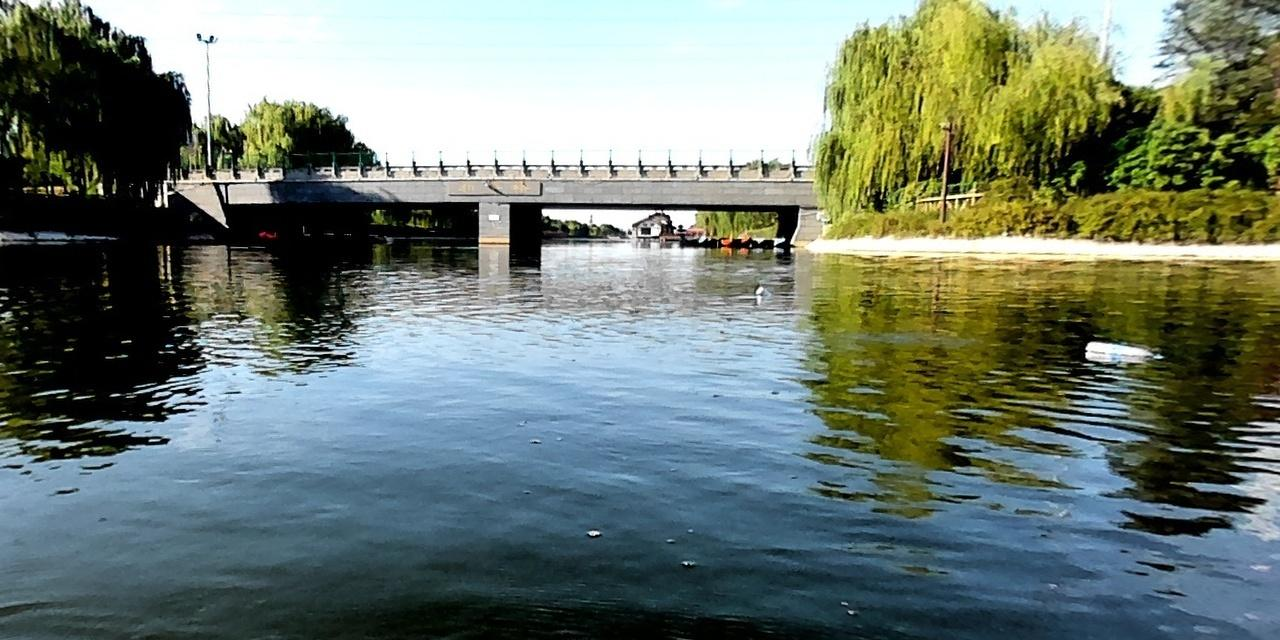bottle: (1085, 340, 1159, 361), (755, 285, 772, 298)
